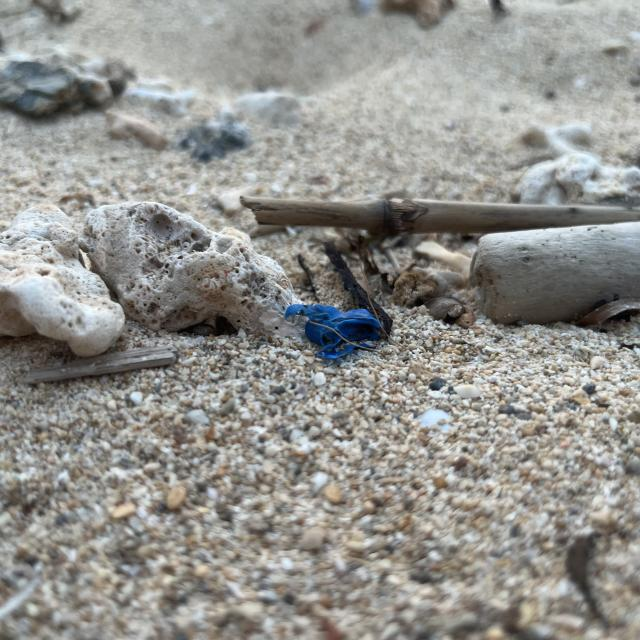rock: (84, 195, 295, 347), (0, 190, 113, 372), (0, 44, 137, 114)
stick: (236, 186, 640, 246), (458, 210, 640, 320)
trash: (280, 294, 392, 364)
